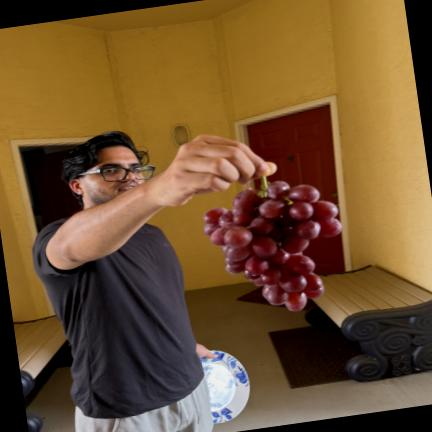grape_cluster: (203, 177, 341, 311)
